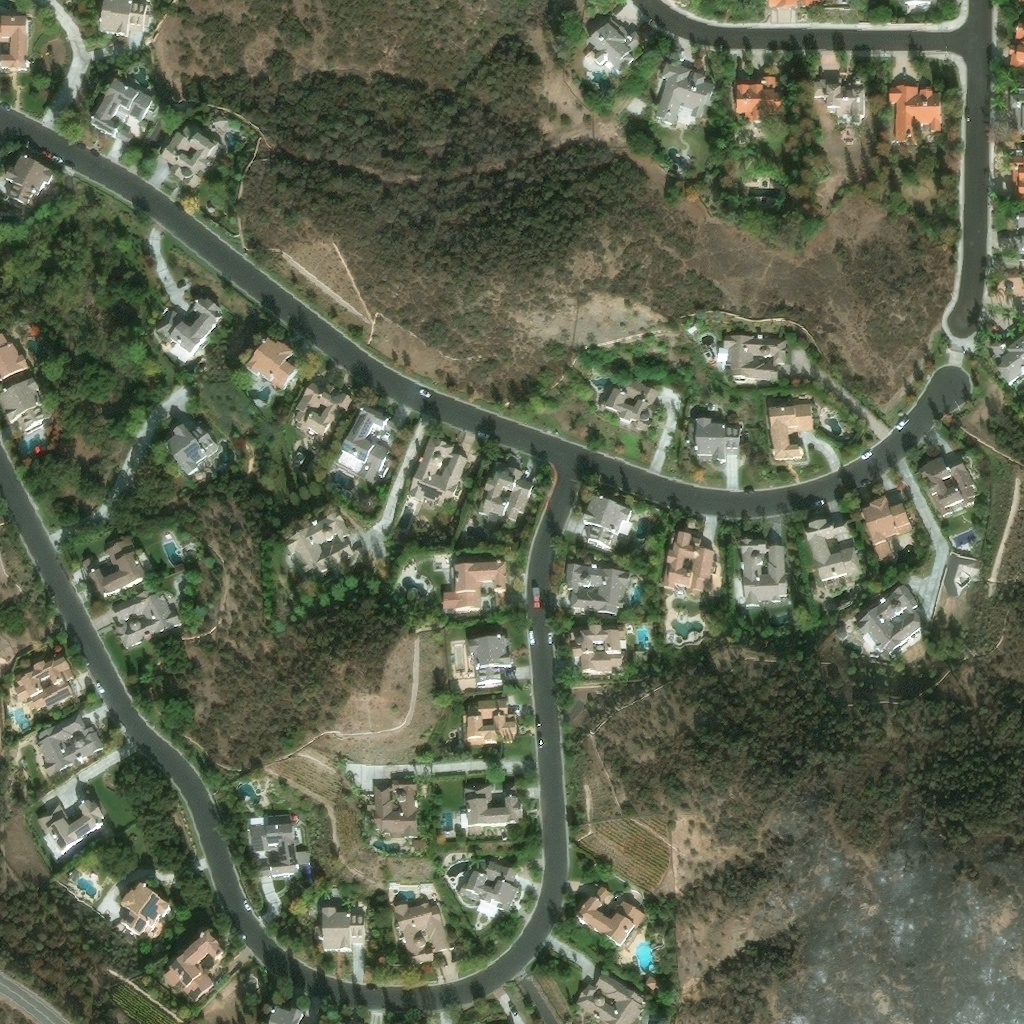0 no-damage: (332, 407, 406, 489), (161, 930, 235, 1005), (854, 586, 927, 662), (31, 714, 108, 781), (150, 297, 225, 365), (283, 513, 355, 583), (405, 438, 469, 516), (111, 585, 183, 652), (157, 123, 225, 193), (571, 887, 646, 949), (86, 79, 157, 144), (916, 453, 983, 521), (83, 536, 150, 603), (36, 799, 108, 861), (807, 520, 865, 596), (12, 658, 77, 724), (290, 383, 355, 449), (652, 63, 718, 127), (660, 528, 717, 600), (391, 905, 451, 971), (161, 425, 226, 485), (860, 498, 916, 566), (116, 881, 177, 943), (248, 824, 312, 883), (442, 562, 510, 617), (716, 336, 788, 387), (572, 975, 648, 1023), (457, 860, 521, 917), (565, 566, 631, 621), (740, 539, 792, 608), (242, 336, 299, 398), (0, 379, 58, 439), (580, 496, 634, 560), (478, 469, 535, 529), (887, 86, 943, 147), (0, 155, 57, 214), (588, 23, 644, 79), (570, 625, 630, 675), (767, 405, 815, 464), (373, 778, 418, 840), (603, 380, 659, 429), (684, 418, 743, 464), (461, 700, 518, 747), (468, 635, 515, 691), (463, 784, 524, 827), (812, 80, 866, 128), (96, 0, 149, 41), (321, 908, 367, 955), (734, 79, 782, 123), (0, 16, 30, 74), (0, 334, 29, 386), (995, 337, 1023, 390), (1006, 24, 1023, 73), (1008, 153, 1023, 204), (1008, 90, 1023, 138), (899, 0, 938, 16), (766, 0, 821, 11), (269, 1007, 303, 1023), (643, 977, 659, 994), (223, 133, 230, 141), (240, 137, 247, 144)
